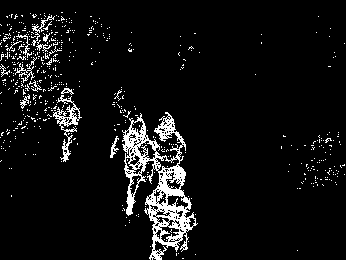person: (146, 167, 195, 259), (124, 118, 151, 213), (52, 88, 80, 163), (152, 112, 186, 171)
